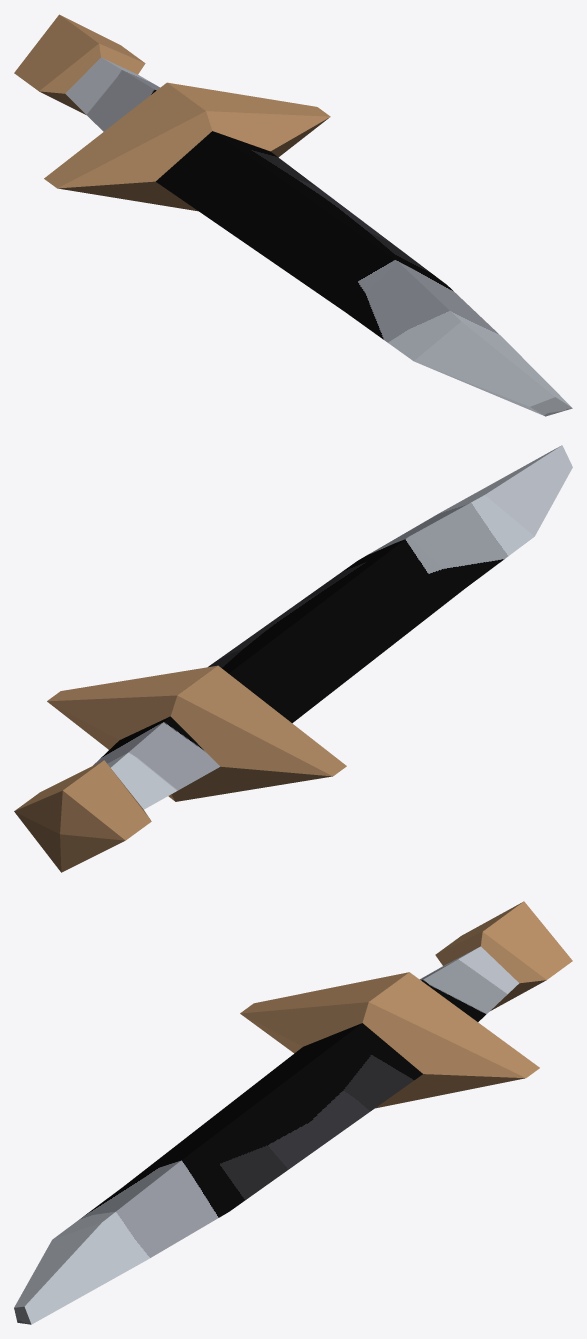
File: weapon_sword.fbx
The picture shows the model from 3 angles, top to bottom: view 1: azimuth 30°, elevation 25°; view 2: azimuth 150°, elevation 25°; view 3: azimuth 330°, elevation 25°; orthographic projection. The views are drawn at different scales.
Parts seen in each view (by area): view 1: wood_dagger; view 2: wood_dagger; view 3: wood_dagger.
Part boxes in pixels (<box>): wood_dagger: <box>14,14,572,416</box>; wood_dagger: <box>14,445,572,872</box>; wood_dagger: <box>14,901,572,1324</box>.
Bounding box in the file's own units: 0.6713 × 0.2394 × 2.1.
